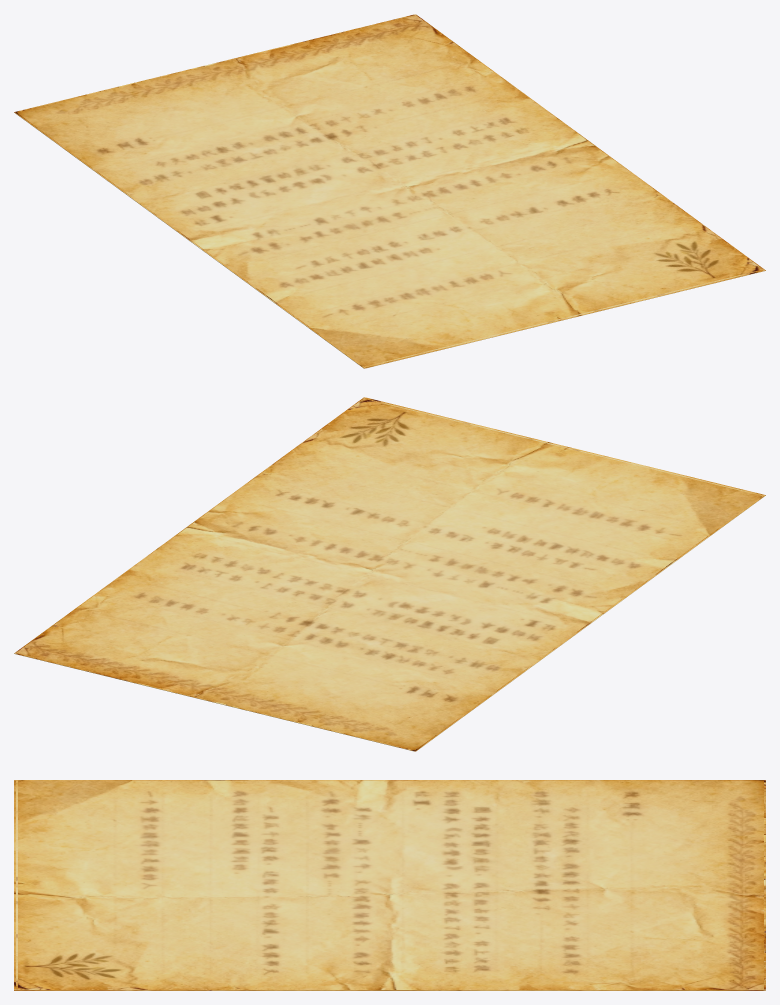
The picture shows the model from 3 angles, top to bottom: view 1: azimuth 30°, elevation 25°; view 2: azimuth 150°, elevation 25°; view 3: azimuth 270°, elevation 25°; orthographic projection. The views are drawn at different scales.
Visible parts, largest first — view 1: gift-card-001-a; view 2: gift-card-001-a; view 3: gift-card-001-a.
Boxes of the visible parts, box(x1,y1,x2,y2) form: gift-card-001-a: box(14, 14, 765, 368); gift-card-001-a: box(14, 397, 765, 751); gift-card-001-a: box(14, 780, 765, 990).
Size of the model in its own units: 12.43 by 0.01 by 18.76.
Materials: 1 (1 with a texture image).
